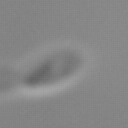normal: (1, 78, 28, 99)
